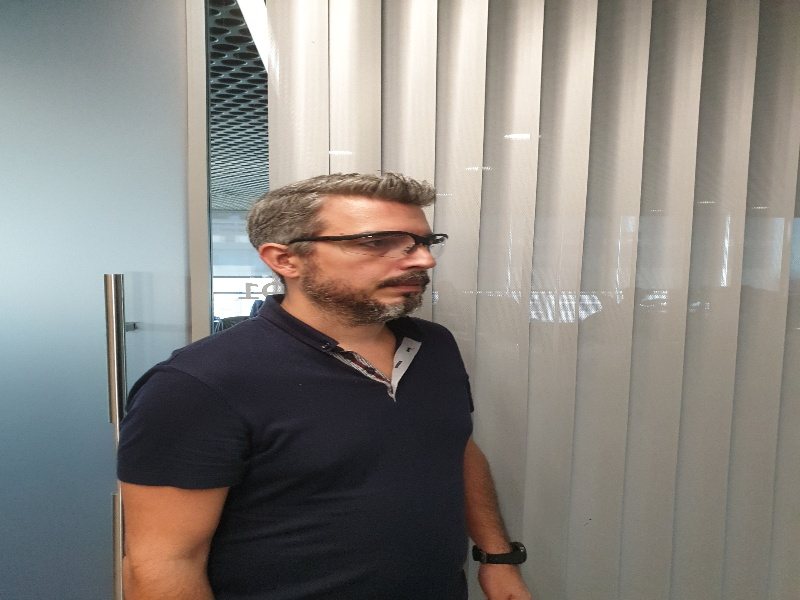Gozluk: (285, 231, 449, 256)
